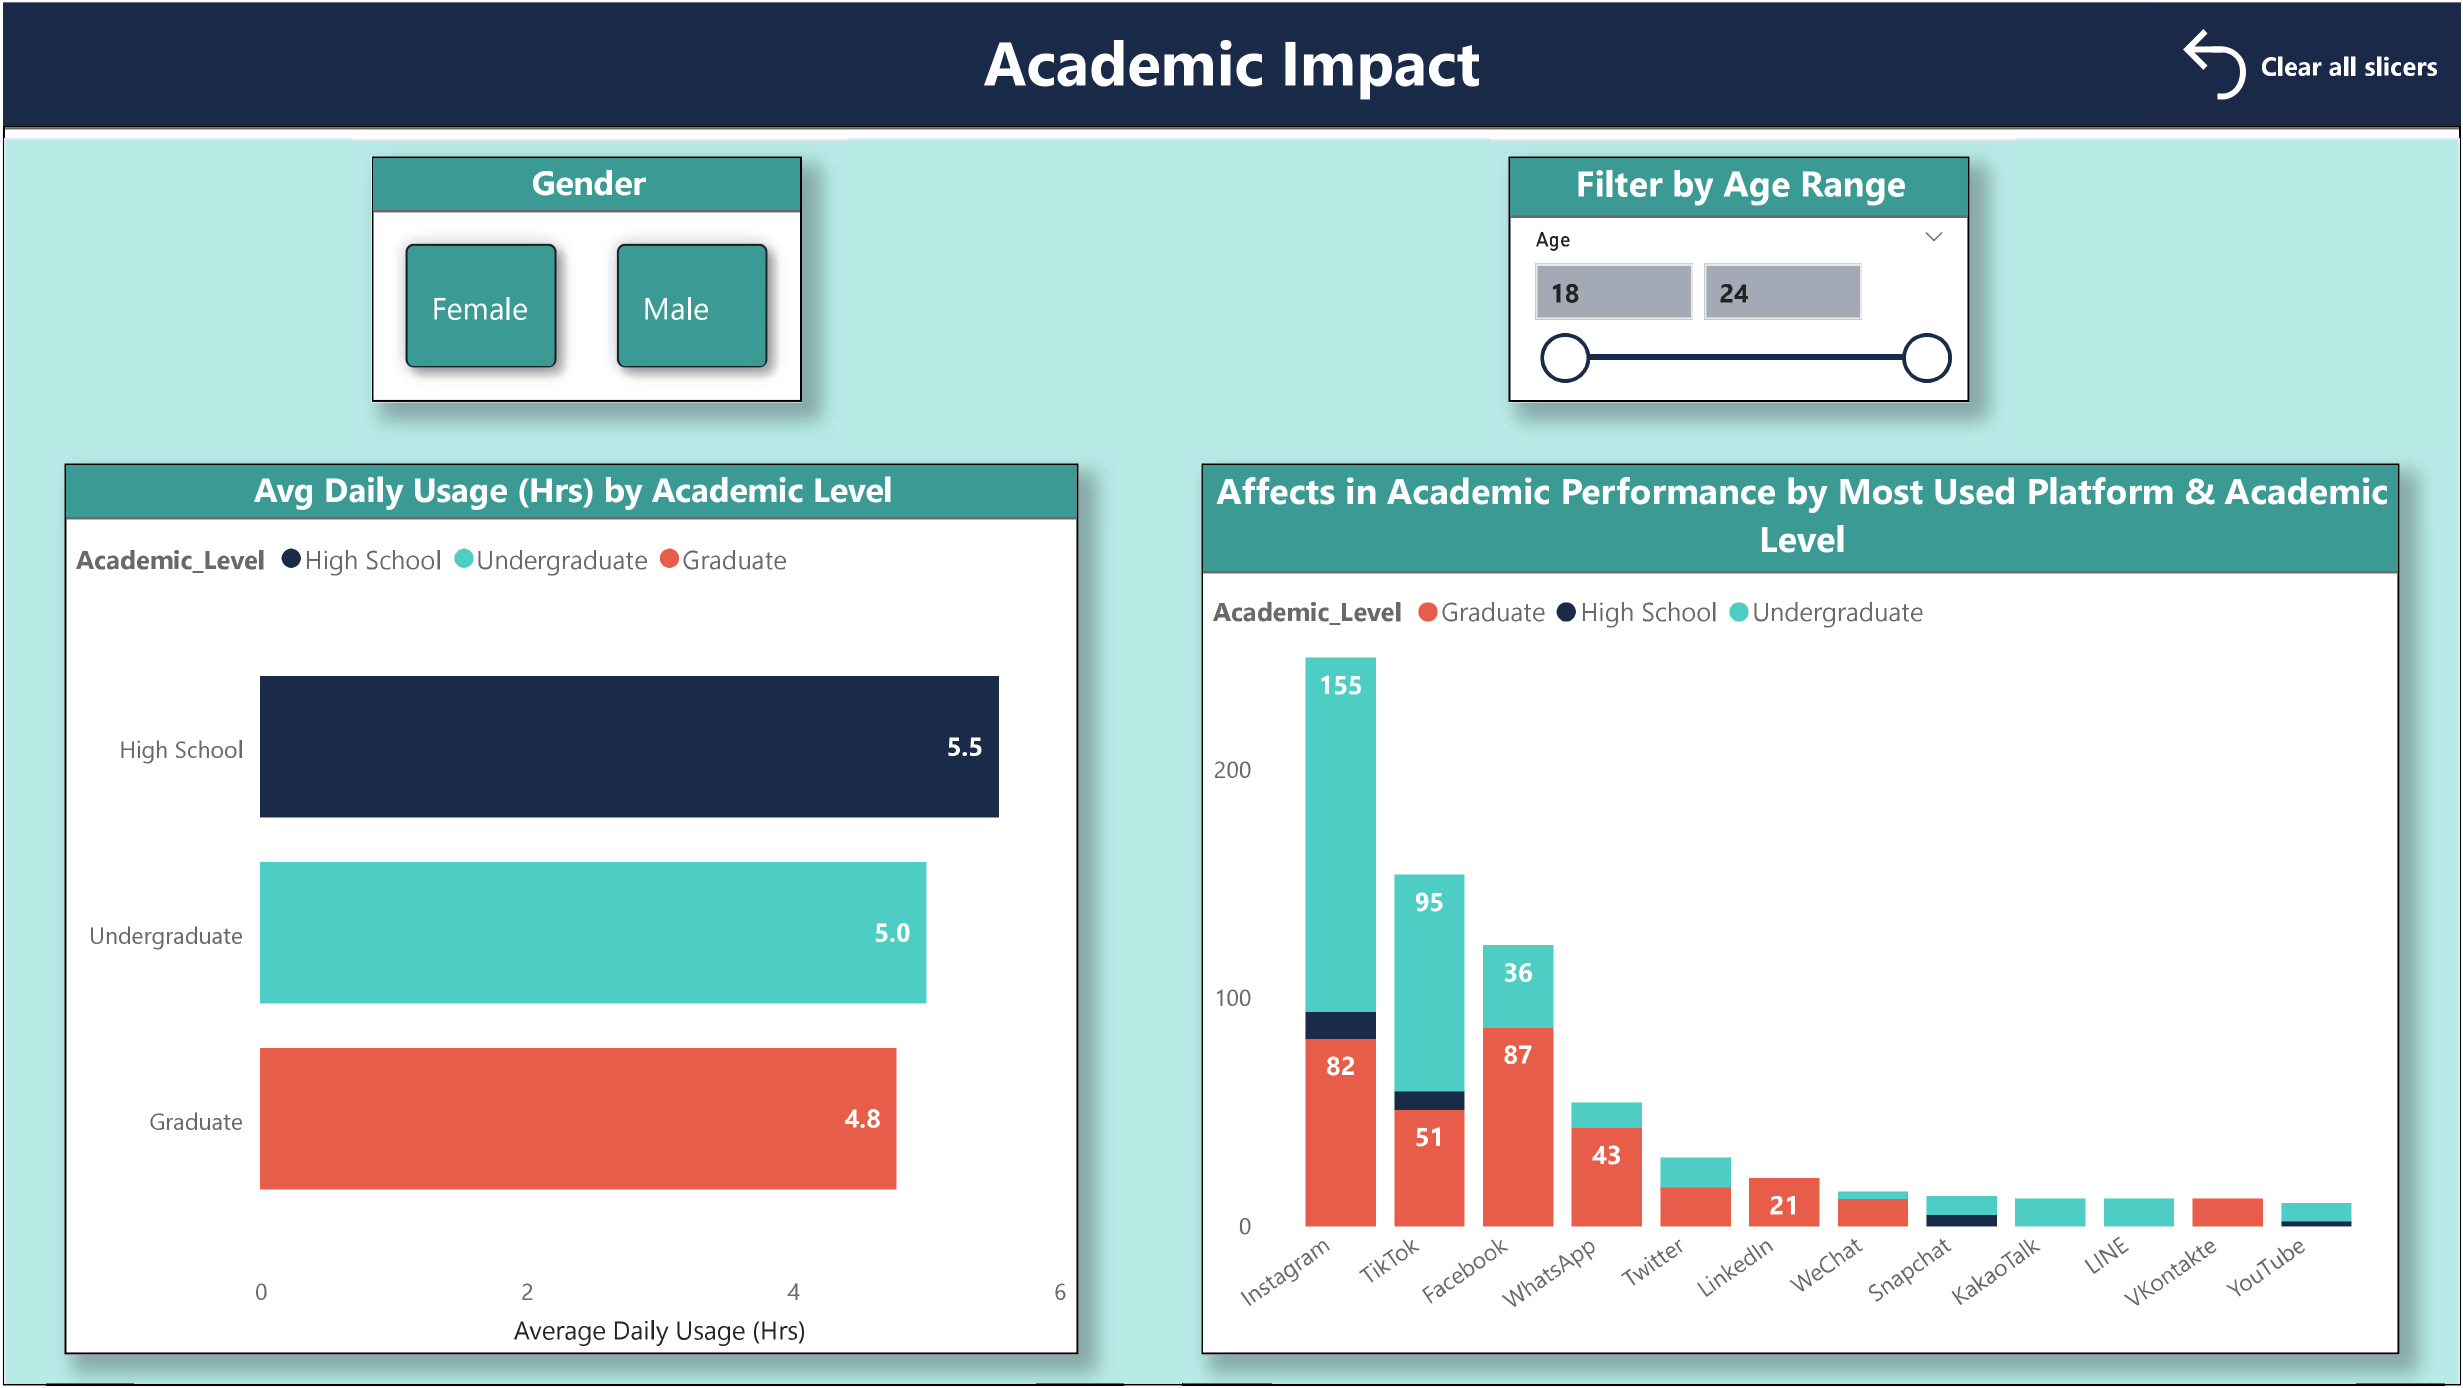

This screenshot's page, from the dashboard's own definition file:
{"tool":"powerbi","page":{"name":" Academic Impact ","canvas":[1280,720],"ordinal":3},"visuals":[{"type":"shape","box":[0,64,1280,656],"z":0},{"type":"shape","box":[0,0,1280,64],"z":1000},{"type":"textbox","box":[464,0,352,64],"z":2000},{"type":"actionButton","box":[1120,0,160,64],"z":3000},{"type":"barChart","title":"Avg Daily Usage (Hrs) by Academic Level","fields":{"Y":["Student Details.Avg Usage Hours"],"Category":["Student Details.Academic_Level"],"Series":["Student Details.Academic_Level"]},"box":[32,240,528,464],"z":4000},{"type":"columnChart","title":"Affects in Academic Performance by Most Used Platform & Academic Level","fields":{"Y":["CountNonNull(Platform Details.Affects_Academic_Performance)"],"Category":["Platform Details.Most_Used_Platform"],"Series":["Student Details.Academic_Level"]},"box":[624,240,624,464],"z":5000},{"type":"advancedSlicerVisual","title":"Gender","fields":{"Values":["Student Details.Gender"]},"box":[192,80,224,128],"z":7000},{"type":"slicer","title":"Filter by Age Range","fields":{"Values":["Student Details.Age"]},"box":[784,80,240,128],"z":8000}]}

Visuals, with their boxes in screenshot pixels (x1, y1, x2, y2), scaled from the page's 1280x720 canvas onto the 2463x1388 screenshot:
shape: locate(0, 123, 2462, 1387)
shape: locate(0, 0, 2462, 123)
textbox: locate(893, 0, 1570, 123)
actionButton: locate(2155, 0, 2462, 123)
"Avg Daily Usage (Hrs) by Academic Level" barChart: locate(62, 463, 1078, 1357)
"Affects in Academic Performance by Most Used Platform & Academic Level" columnChart: locate(1201, 463, 2401, 1357)
"Gender" advancedSlicerVisual: locate(369, 154, 800, 401)
"Filter by Age Range" slicer: locate(1509, 154, 1970, 401)
